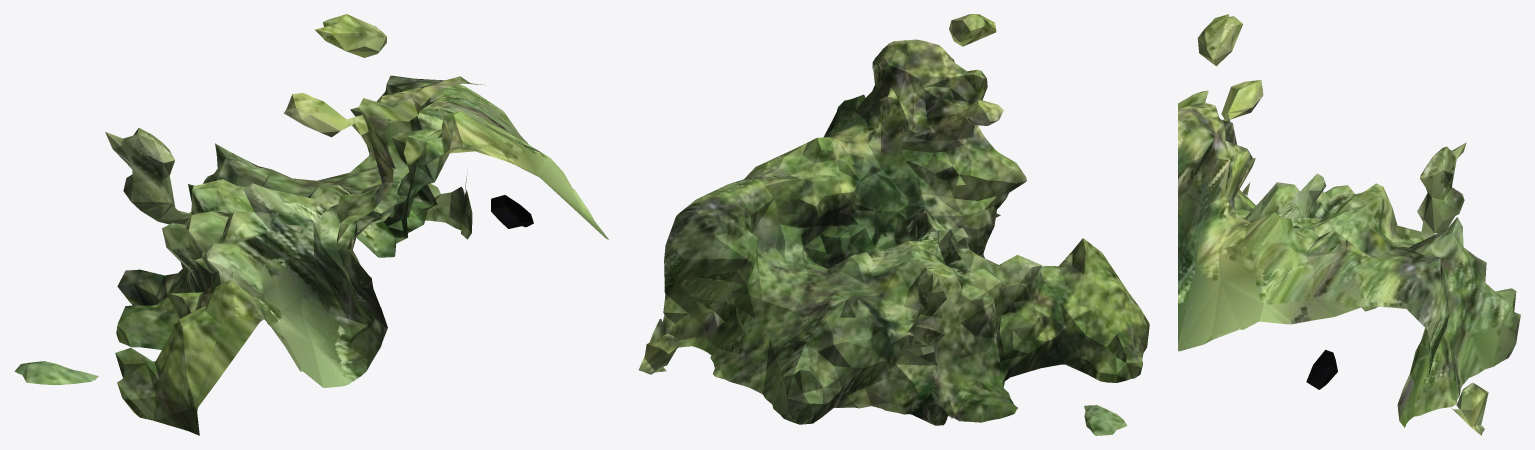
The picture shows the model from 3 angles, left to right: view 1: azimuth 30°, elevation 25°; view 2: azimuth 150°, elevation 25°; view 3: azimuth 270°, elevation 25°; orthographic projection. The views are drawn at different scales.
Bounding box in the file's own units: 25.37 × 17.95 × 17.65.
3 materials, 3 textured.
